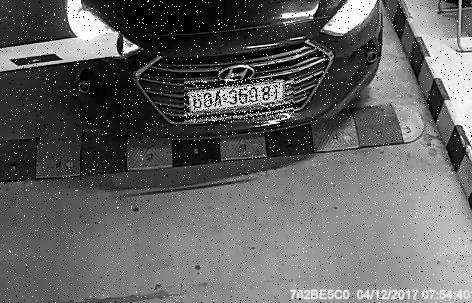License-plate: (186, 81, 296, 125)
